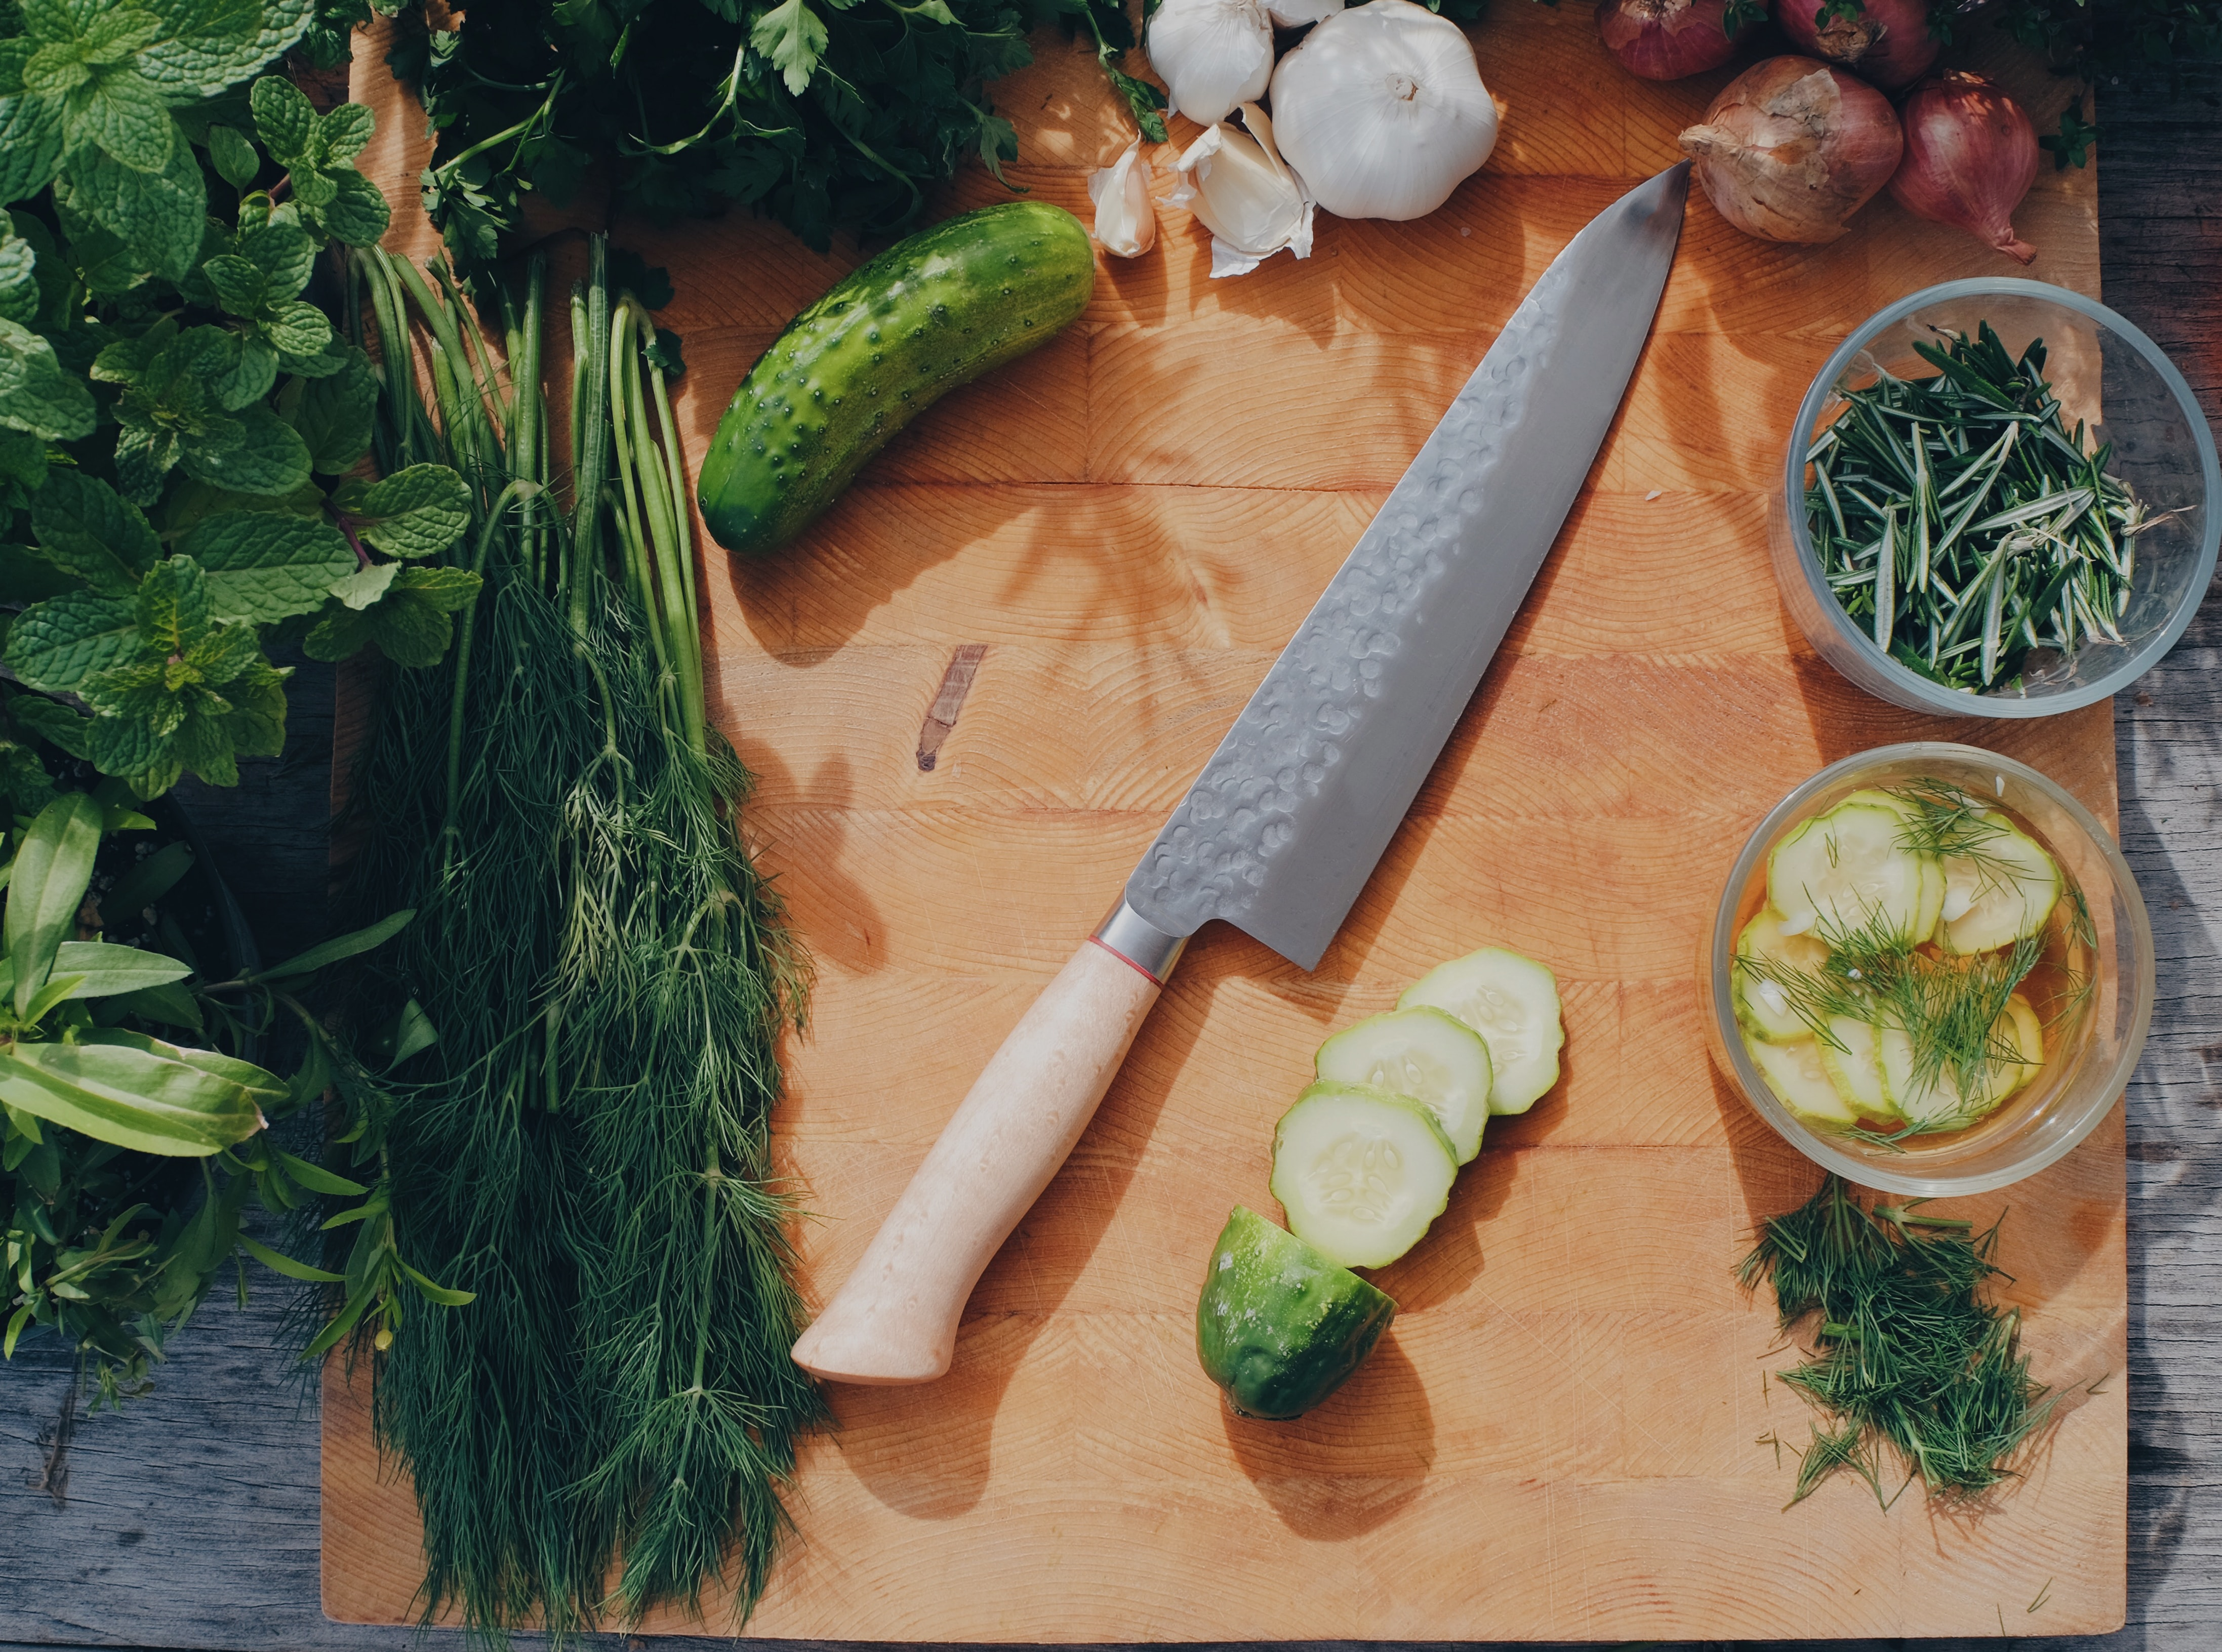knife: (774, 153, 1713, 1404)
